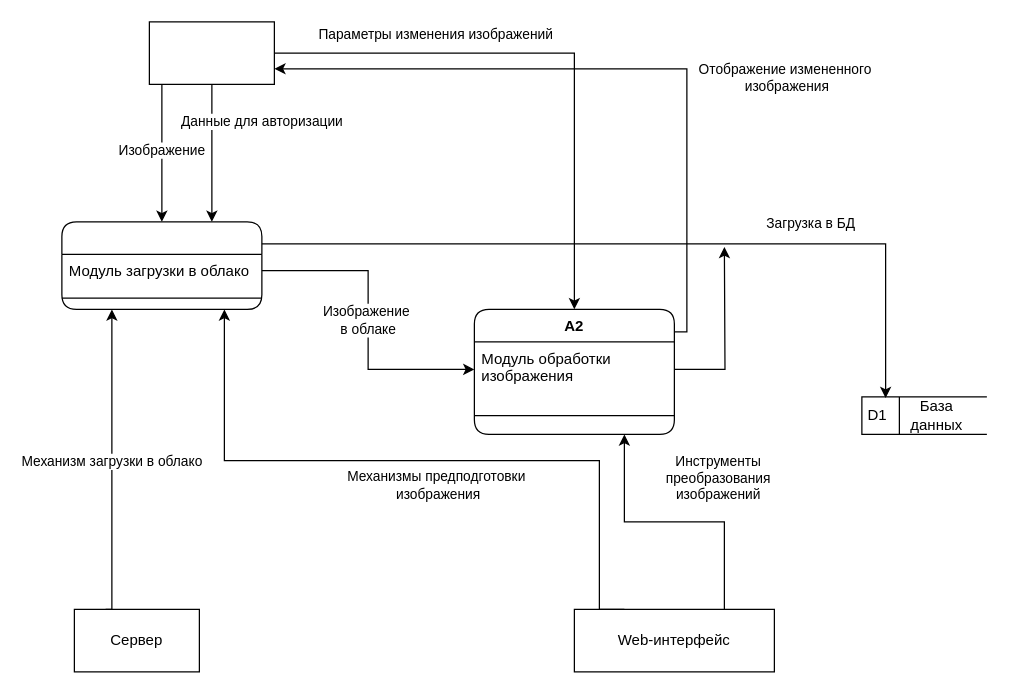
Image size: 1009x694. Some labels were removed from this diagram. The shapes that lost their labels are listed below. From the top down, each one's box as (x1, y1, x2, y2) in pixels, then its label:
(148, 21, 274, 84): Пользователь
(61, 221, 262, 309): A1
